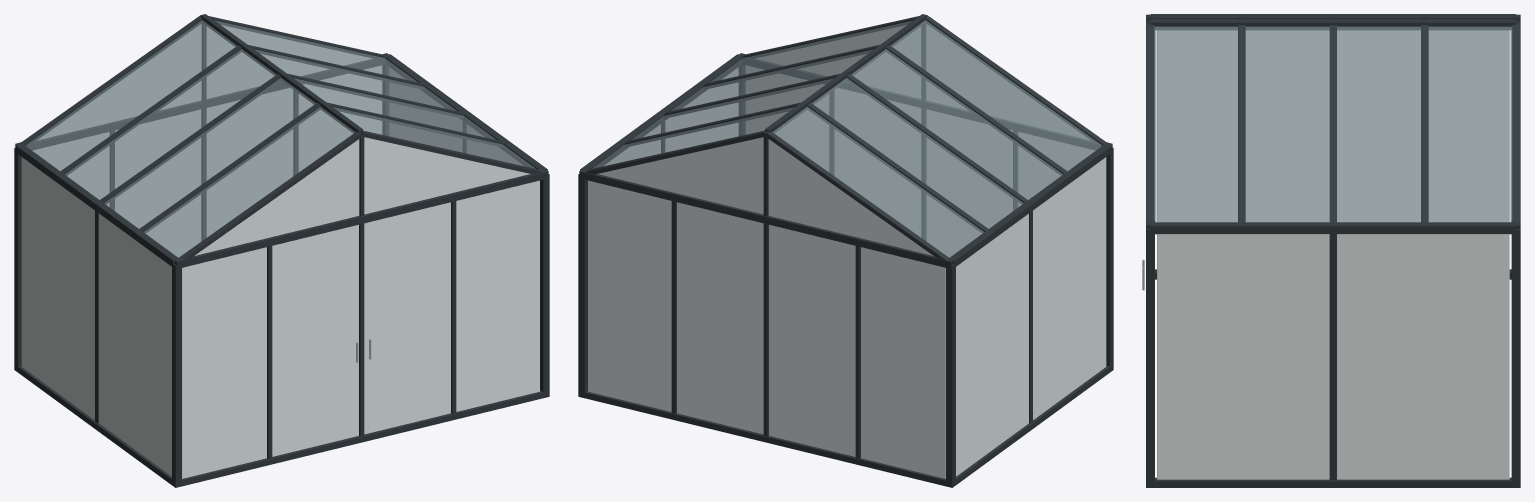
The model's file is sunroom_gable_7303a7d6.glb.
3 views of the same model, side by side, from view 1: azimuth 30°, elevation 25°; view 2: azimuth 150°, elevation 25°; view 3: azimuth 270°, elevation 25° (orthographic). The views are drawn at different scales.
Parts seen in each view (by area): view 1: wall_glass_8, side_glass_12, wall_glass_4, gable_triangle (×2), roof_rafter (×10), PV_roof_15, PV_roof_16, PV_roof_17, PV_roof_14, eave_transom (×2), side_eave_transom (×2), side_glass_13 (+15 smaller); view 2: wall_glass_4, side_glass_12, wall_glass_8, gable_triangle (×2), roof_rafter (×10), PV_roof_14, PV_roof_15, PV_roof_16, PV_roof_17, eave_transom (×2), side_eave_transom (×2), side_glass_13 (+15 smaller); view 3: side_glass_13, side_glass_12, PV_roof_20, PV_roof_18, PV_roof_19, PV_roof_21, roof_rafter (×5), side_eave_transom (×2), ridge_22, side_base_rail, corner_post_2, corner_post_3 (+2 smaller).
Part boxes in pixels (bbox=[...]): wall_glass_8: bbox=[182, 180, 539, 478]; side_glass_12: bbox=[21, 157, 171, 476]; wall_glass_4: bbox=[32, 65, 382, 257]; gable_triangle (×2): bbox=[37, 24, 529, 255]; roof_rafter (×10): bbox=[21, 15, 542, 260]; PV_roof_15: bbox=[65, 49, 276, 199]; PV_roof_16: bbox=[104, 78, 315, 228]; PV_roof_17: bbox=[144, 107, 355, 257]; PV_roof_14: bbox=[26, 20, 236, 170]; eave_transom (×2): bbox=[15, 53, 548, 268]; side_eave_transom (×2): bbox=[16, 54, 547, 267]; side_glass_13: bbox=[389, 67, 523, 165]; wall_glass_4: bbox=[588, 180, 945, 478]; side_glass_12: bbox=[956, 157, 1106, 476]; wall_glass_8: bbox=[745, 65, 1095, 257]; gable_triangle (×2): bbox=[598, 24, 1090, 255]; roof_rafter (×10): bbox=[585, 15, 1106, 260]; PV_roof_14: bbox=[772, 107, 983, 257]; PV_roof_15: bbox=[812, 78, 1023, 228]; PV_roof_16: bbox=[851, 49, 1062, 199]; PV_roof_17: bbox=[891, 20, 1101, 170]; eave_transom (×2): bbox=[579, 53, 1112, 268]; side_eave_transom (×2): bbox=[580, 54, 1111, 267]; side_glass_13: bbox=[604, 67, 738, 165]; side_glass_13: bbox=[1157, 234, 1509, 479]; side_glass_12: bbox=[1157, 30, 1509, 222]; PV_roof_20: bbox=[1245, 26, 1329, 222]; PV_roof_18: bbox=[1428, 26, 1512, 222]; PV_roof_19: bbox=[1337, 26, 1420, 222]; PV_roof_21: bbox=[1154, 26, 1237, 222]; roof_rafter (×5): bbox=[1146, 23, 1519, 222]; side_eave_transom (×2): bbox=[1150, 14, 1515, 234]; ridge_22: bbox=[1150, 19, 1515, 30]; side_base_rail: bbox=[1154, 477, 1511, 487]; corner_post_2: bbox=[1511, 229, 1520, 487]; corner_post_3: bbox=[1146, 229, 1154, 487].
Size of the model in its own units: 4.59 by 3.64 by 3.46.
